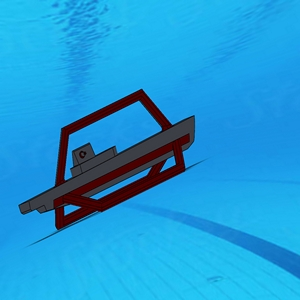submarine: (18, 89, 199, 237)
